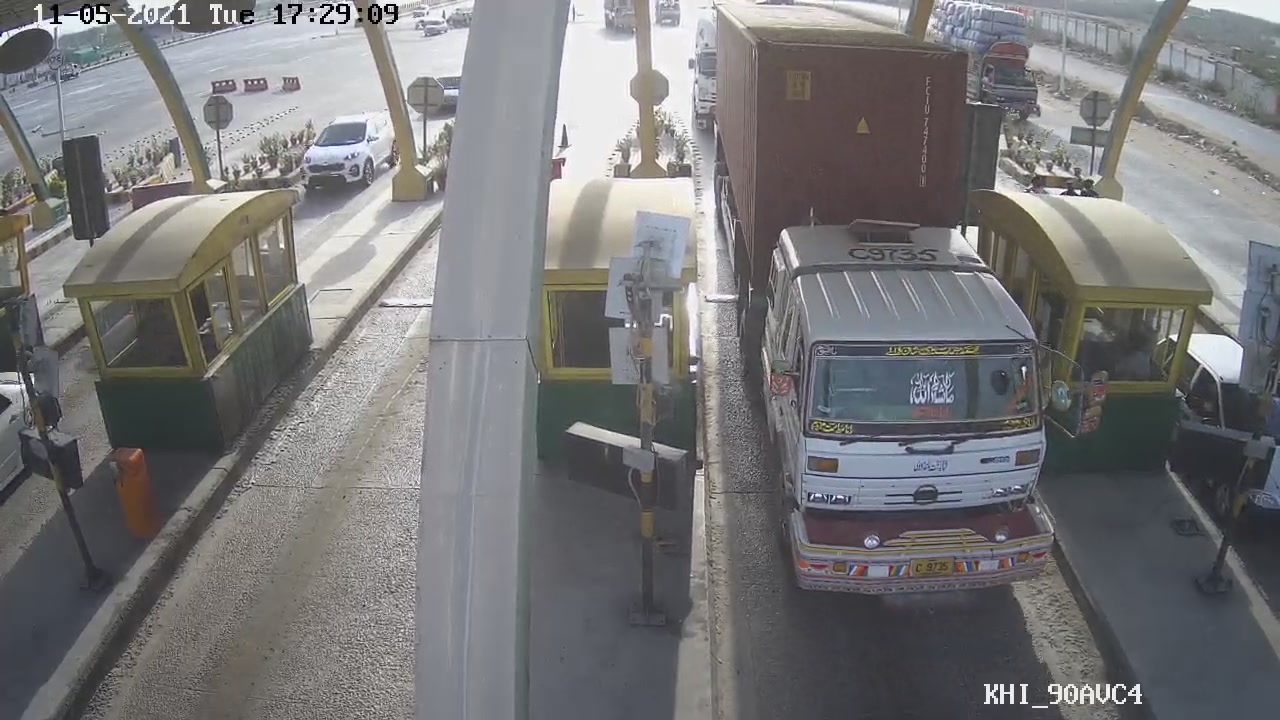F6: (712, 14, 1038, 610)
